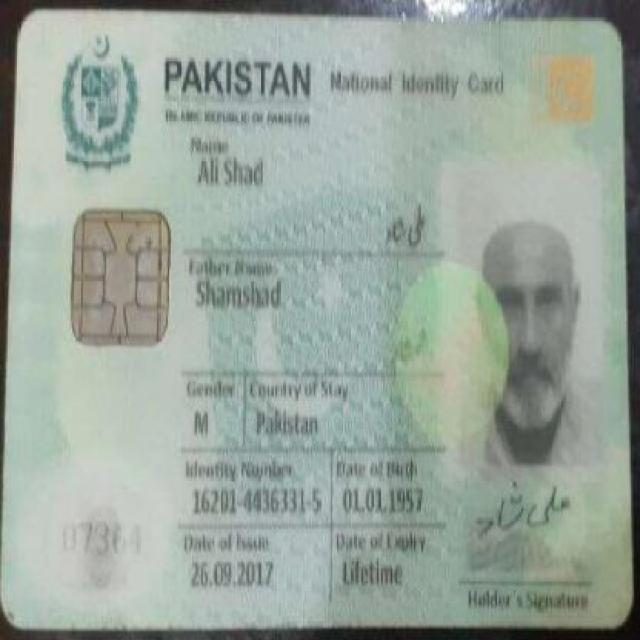Front: (6, 8, 632, 630)
